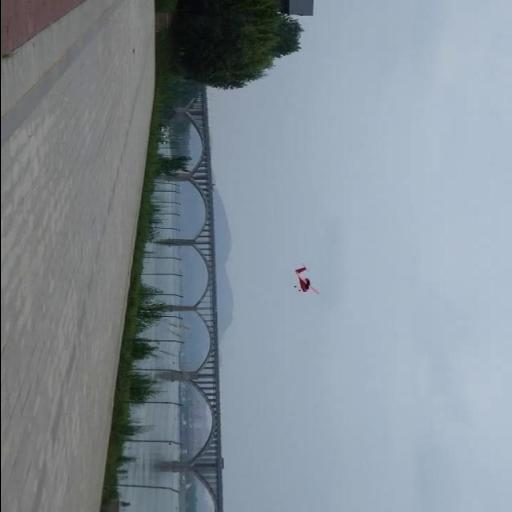uav: (292, 264, 318, 294)
